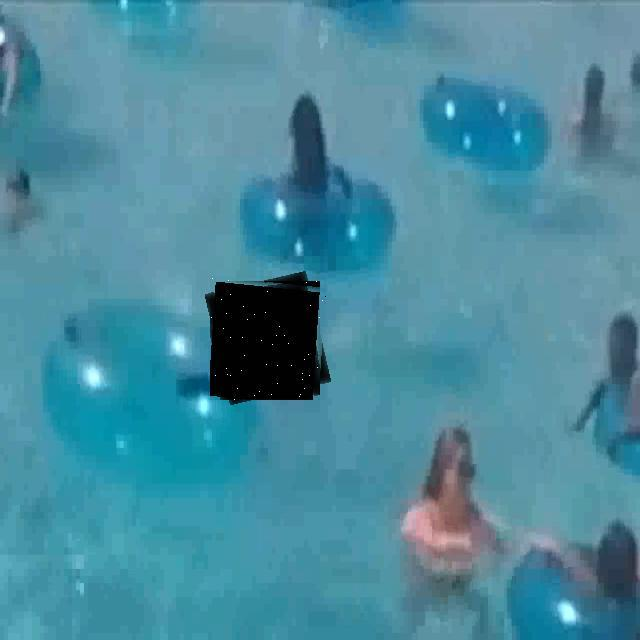Out of Water: (210, 276, 326, 400)
